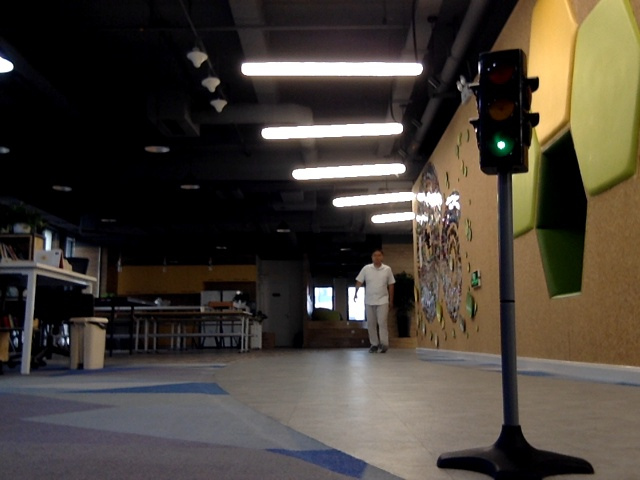green: (478, 58, 523, 166)
